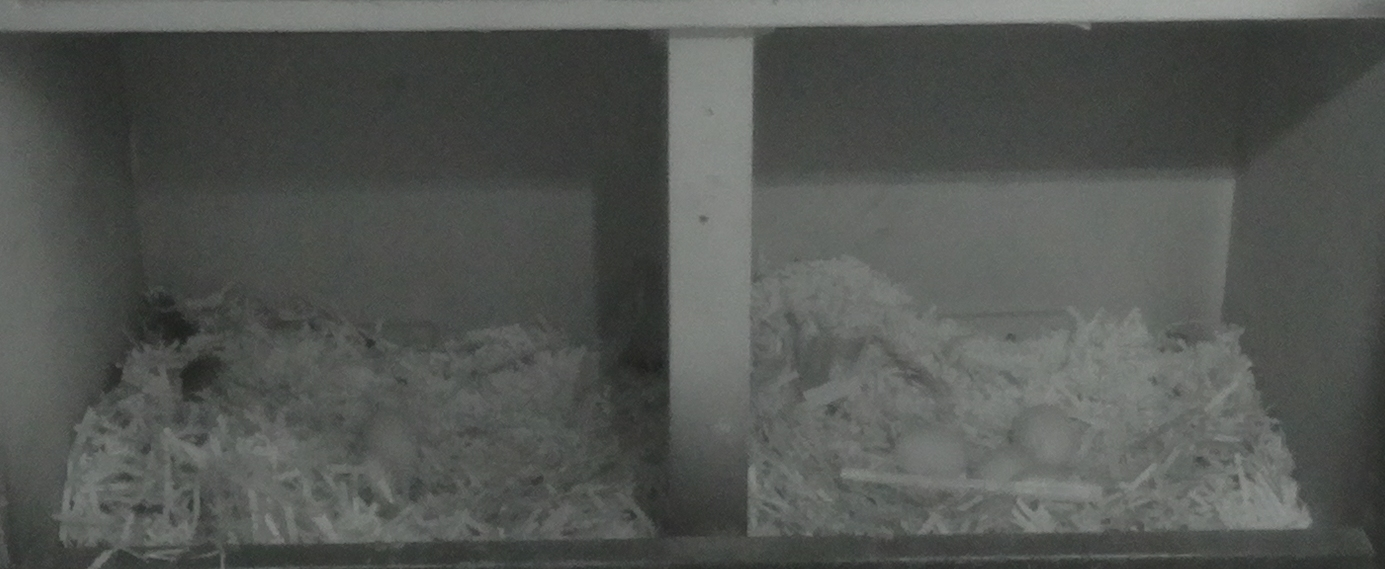Egg: (887, 428, 961, 497), (359, 407, 423, 482), (1012, 404, 1088, 465), (978, 448, 1023, 502)
